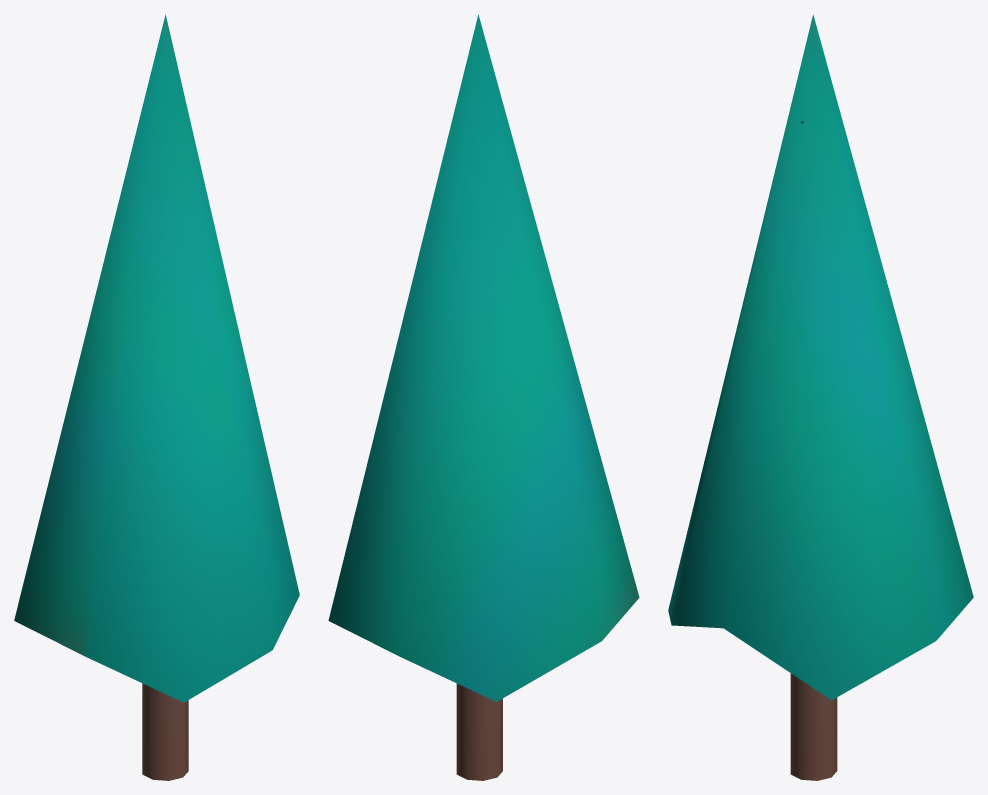
The picture shows the model from 3 angles, left to right: view 1: azimuth 30°, elevation 25°; view 2: azimuth 150°, elevation 25°; view 3: azimuth 270°, elevation 25°; orthographic projection.
Parts seen in each view (by area): view 1: крона.002, ствол.001; view 2: крона.002, ствол.001; view 3: крона.002, ствол.001.
Part boxes in pixels (bbox=[...]): крона.002: bbox=[14, 14, 299, 702]; ствол.001: bbox=[142, 683, 188, 780]; крона.002: bbox=[328, 14, 639, 701]; ствол.001: bbox=[456, 683, 502, 780]; крона.002: bbox=[668, 14, 973, 700]; ствол.001: bbox=[790, 121, 837, 780].
Size of the model in its own units: 162 by 435 by 159.
